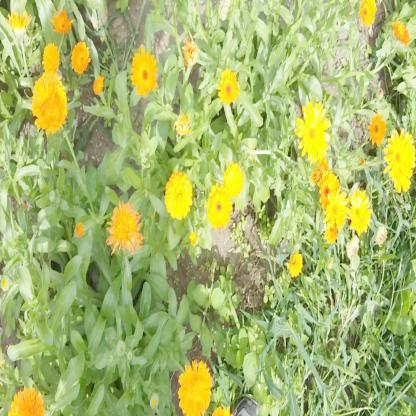marigold: (33, 71, 66, 132), (298, 102, 331, 158), (177, 362, 211, 410), (107, 203, 138, 255), (387, 131, 414, 189), (165, 170, 191, 219), (132, 51, 156, 95), (348, 189, 371, 234), (327, 192, 348, 240), (318, 170, 341, 209), (207, 188, 228, 229), (218, 70, 239, 105), (71, 40, 90, 73), (223, 163, 242, 196), (42, 44, 61, 73), (369, 114, 386, 145), (287, 252, 305, 280), (359, 0, 376, 27), (53, 8, 72, 32)
